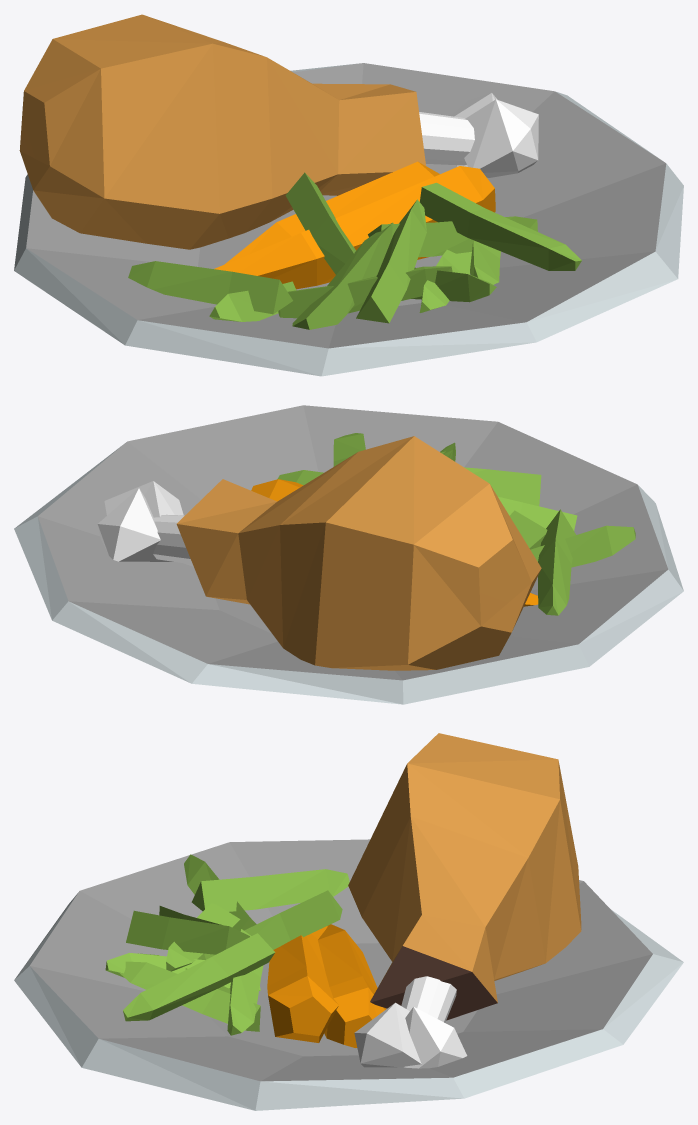
File: Food.fbx
The picture shows the model from 3 angles, top to bottom: view 1: azimuth 30°, elevation 25°; view 2: azimuth 150°, elevation 25°; view 3: azimuth 270°, elevation 25°; orthographic projection. The views are drawn at different scales.
Parts seen in each view (by area): view 1: Food; view 2: Food; view 3: Food.
Boxes of the visible parts, x1=… form: Food: x1=14, y1=14, x2=683, y2=376; Food: x1=14, y1=405, x2=683, y2=704; Food: x1=14, y1=733, x2=683, y2=1110.
Size of the model in its own units: 0.4249 by 0.1719 by 0.4507.
